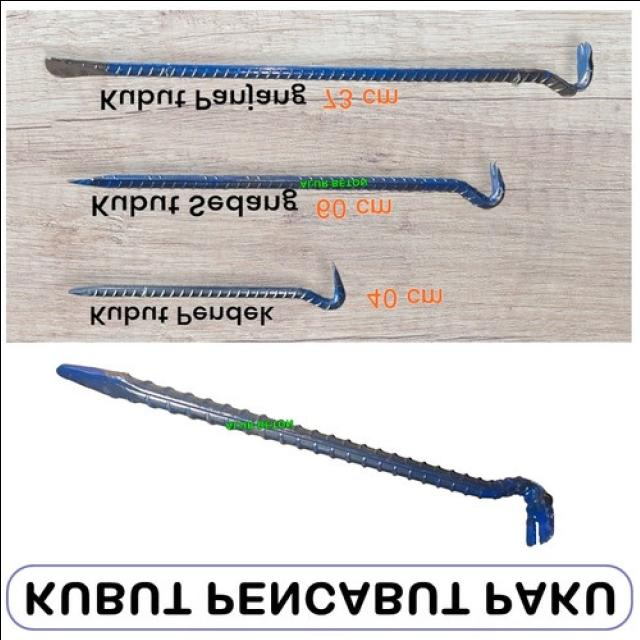Linggis: (58, 361, 556, 548)
